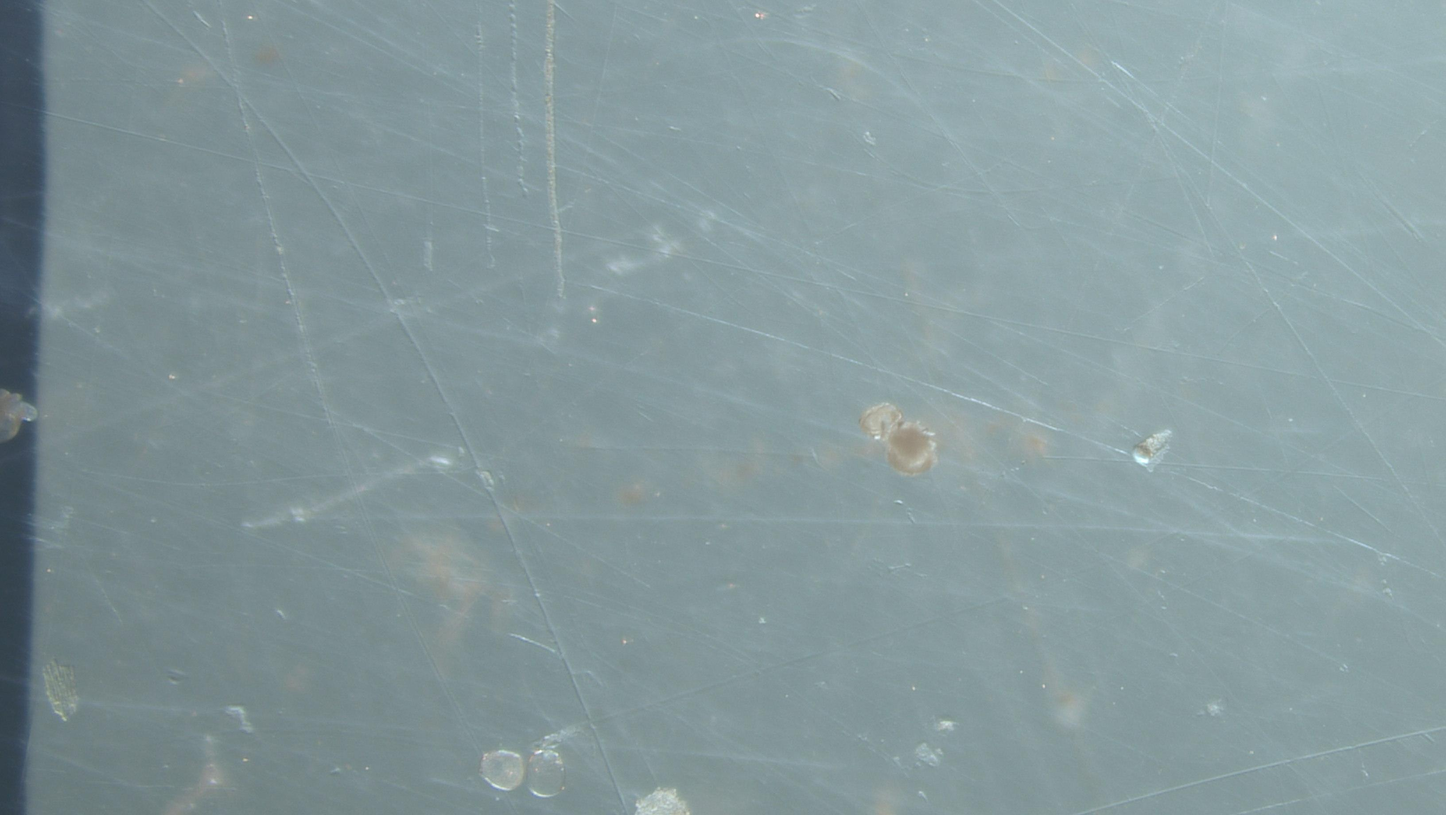dead: (480, 750, 528, 791), (528, 750, 566, 798)
live: (887, 422, 937, 476), (0, 388, 38, 443), (859, 403, 904, 442)
